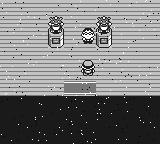leer: (48, 17, 64, 47), (96, 17, 112, 47)
main: (80, 61, 96, 76)
no-caminable: (1, 96, 160, 143)
npc: (81, 28, 94, 44)
puerta: (60, 79, 100, 96)
